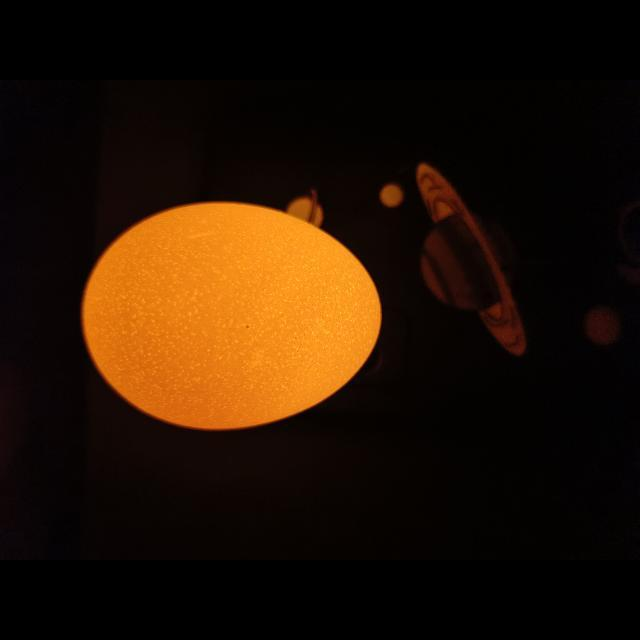AA - Premium: (83, 203, 381, 430)
